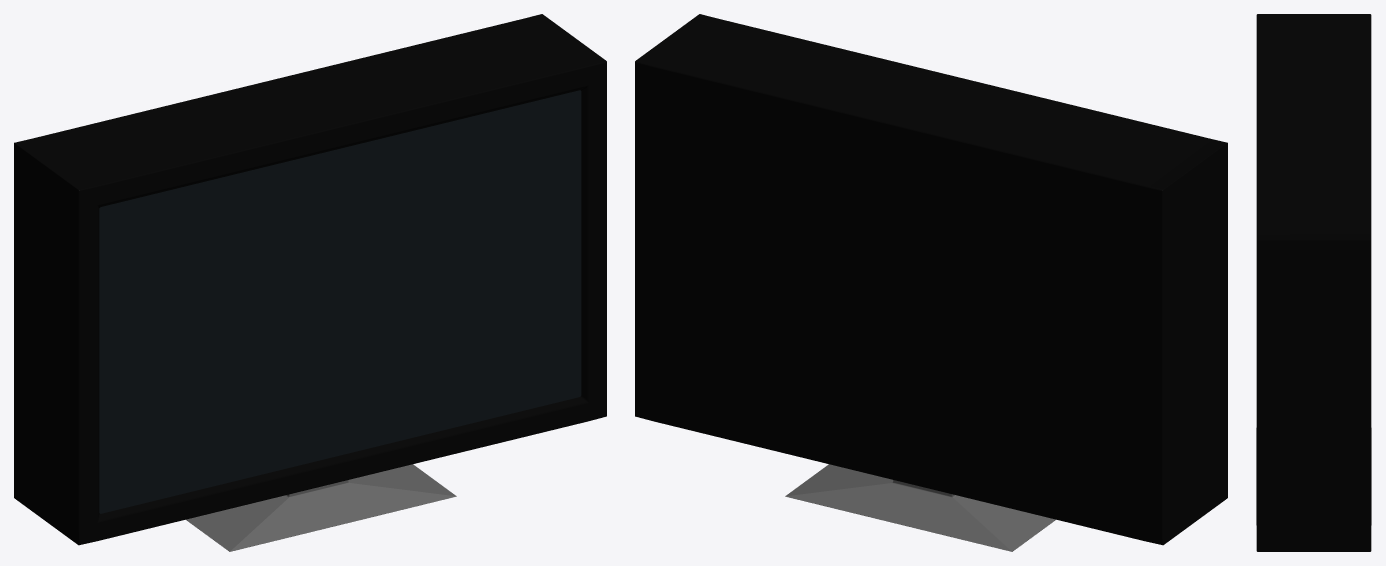
File: SM_TD2_TV_FlatStand.gltf
3 renders of one model, left to right at view 1: azimuth 30°, elevation 25°; view 2: azimuth 150°, elevation 25°; view 3: azimuth 270°, elevation 25°, orthographic. The views are drawn at different scales.
Parts seen in each view (by area): view 1: SM_TD2_TV_FlatStand_LookDev02__Screen, SM_TD2_TV_FlatStand_LookDev02__Body; view 2: SM_TD2_TV_FlatStand_LookDev02__Body; view 3: SM_TD2_TV_FlatStand_LookDev02__Body.
Part boxes in pixels (x1,y1,x2,y2): SM_TD2_TV_FlatStand_LookDev02__Screen: (99,90,581,513); SM_TD2_TV_FlatStand_LookDev02__Body: (14,14,606,551); SM_TD2_TV_FlatStand_LookDev02__Body: (635,14,1227,551); SM_TD2_TV_FlatStand_LookDev02__Body: (1256,14,1371,551).
Bounding box in the file's own units: 1.4 × 1.01 × 0.3018.
Materials: 2 (1 with a texture image).
